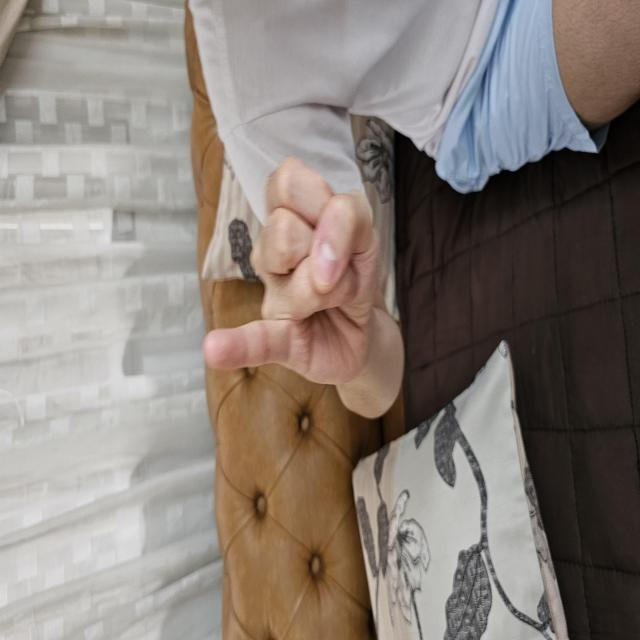I: (253, 201, 487, 383)
